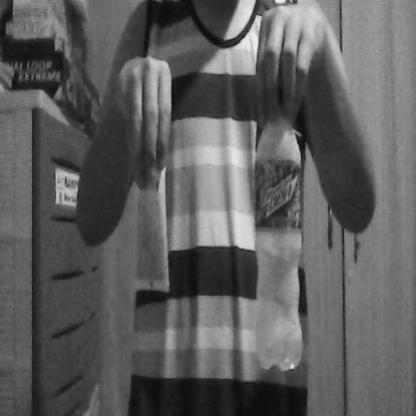Plastic Bottle: (241, 60, 312, 375)
